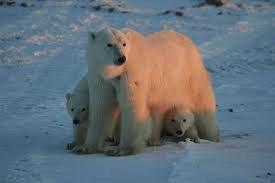bear: (72, 25, 220, 155), (61, 74, 92, 150), (162, 106, 200, 143)
